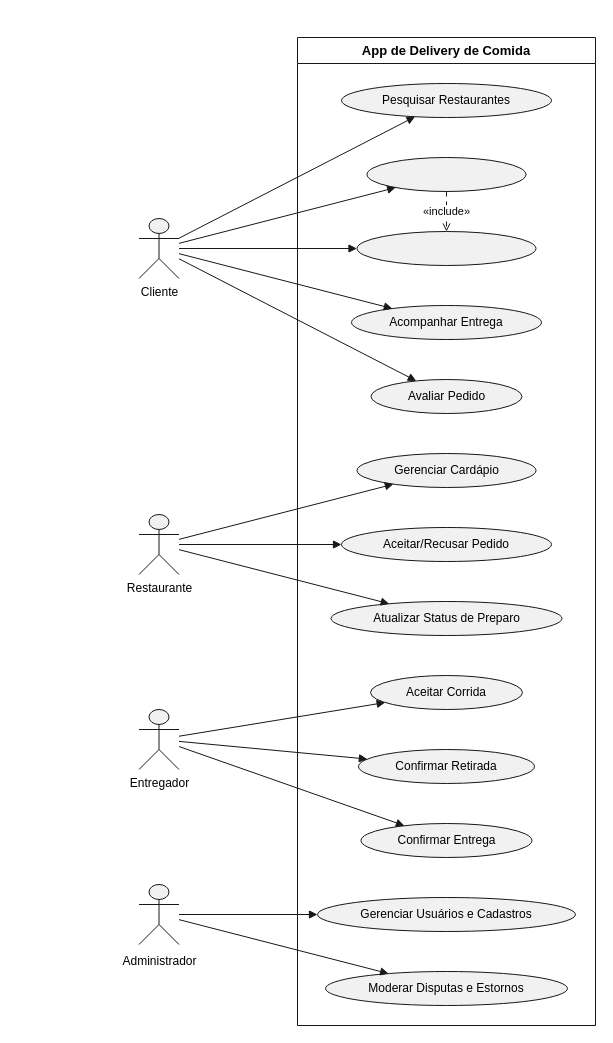
Image size: 613x1043. Some labels were removed from this diagram. Here are the shapes that lost their labels. From the top down, the centre of each, then its label:
At (x=446, y=174): "Realizar Pedido".
At (x=446, y=248): "Efetuar Pagamento".
